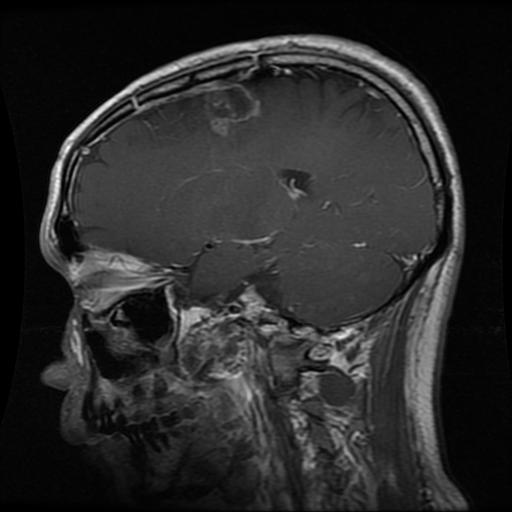Gliomia_tumour: (209, 88, 260, 137)
